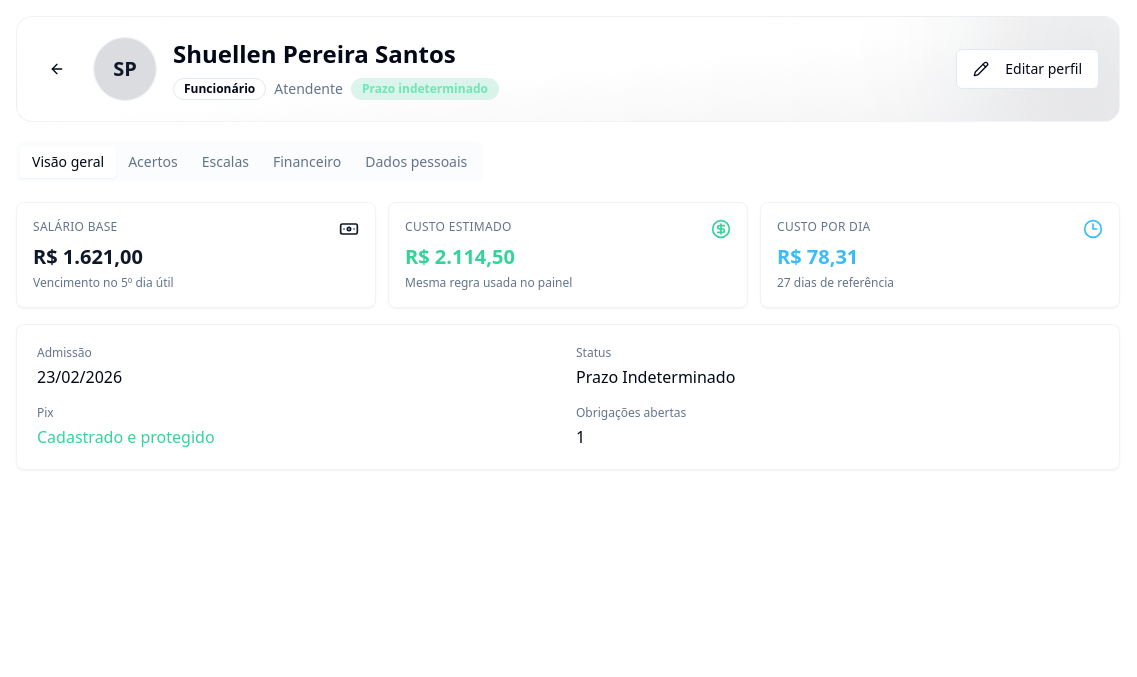
Test: EquipeDetalhePage › mascara dados sensíveis por padrão e só revela com ação explícita
Step 1. Click the tab "Dados pessoais" → click(416, 162), box [353,146,479,178]
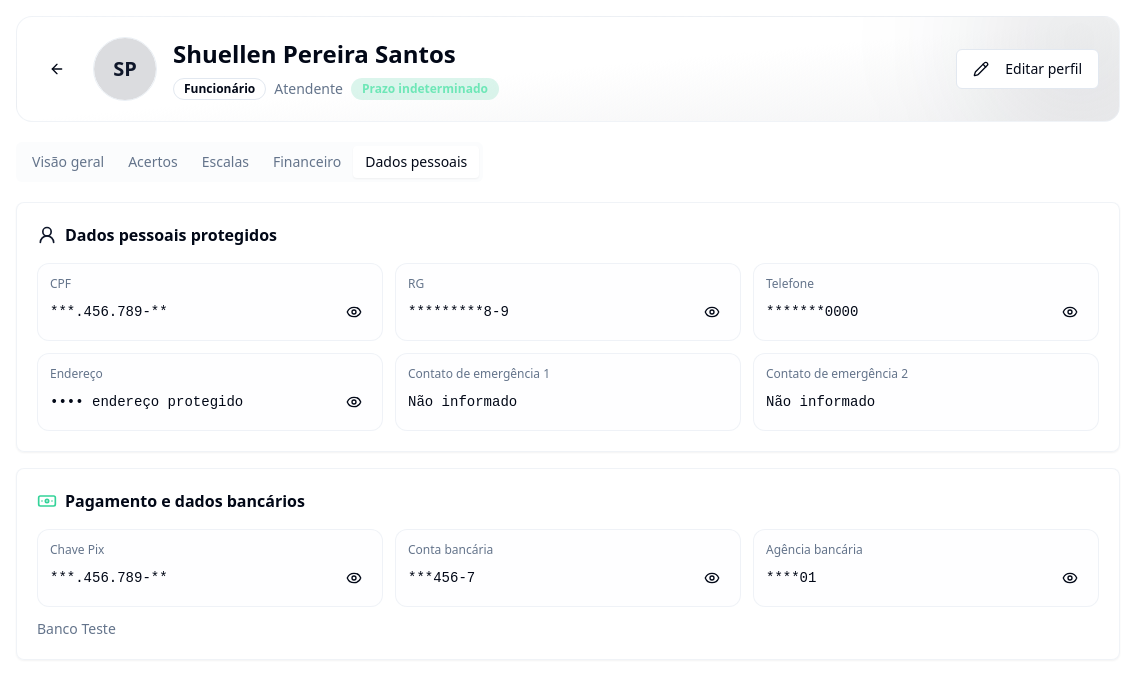
Check: the text "123456-7" is not shown
Check: the text "***.456.789-**" is shown 2 times, box [50,302,168,322]; [50,568,168,588]
Step 2. Click the button named "revelar conta bancária" → click(712, 578), box [696,562,728,594]
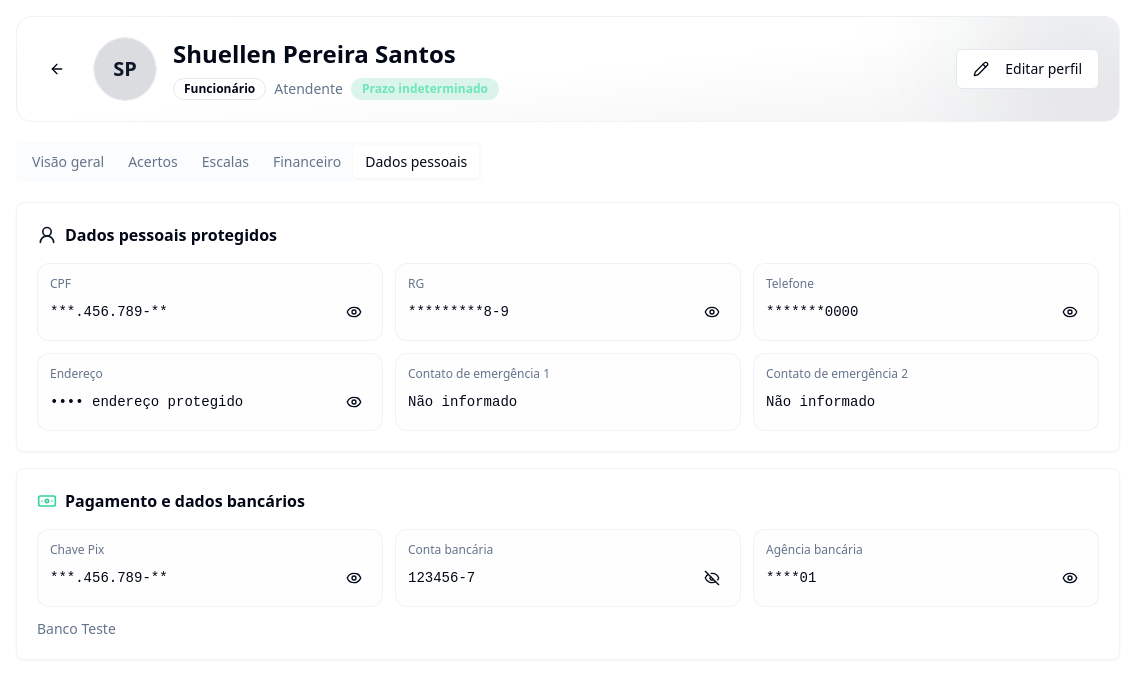
Check: the text "123456-7" is shown, box [408,568,475,588]
